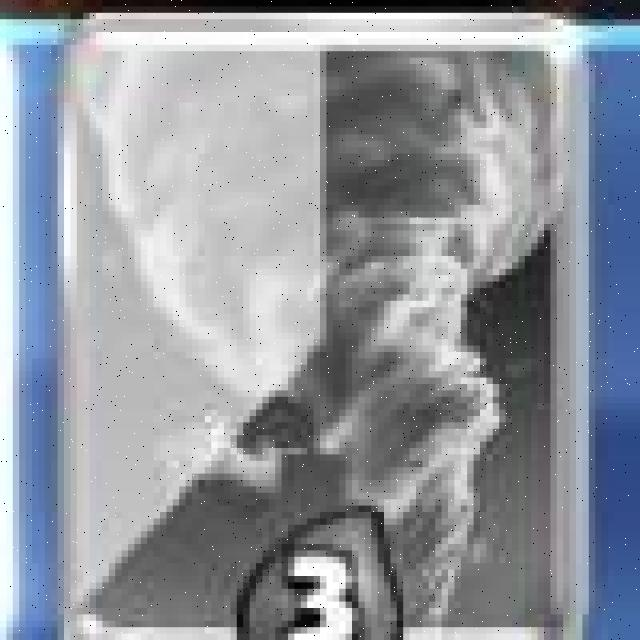Tornado: (57, 18, 587, 640)
